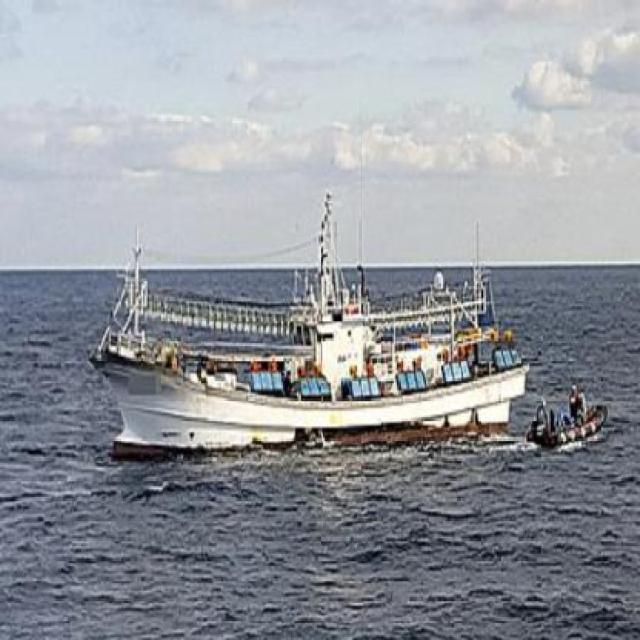fish-b: (83, 184, 537, 483)
